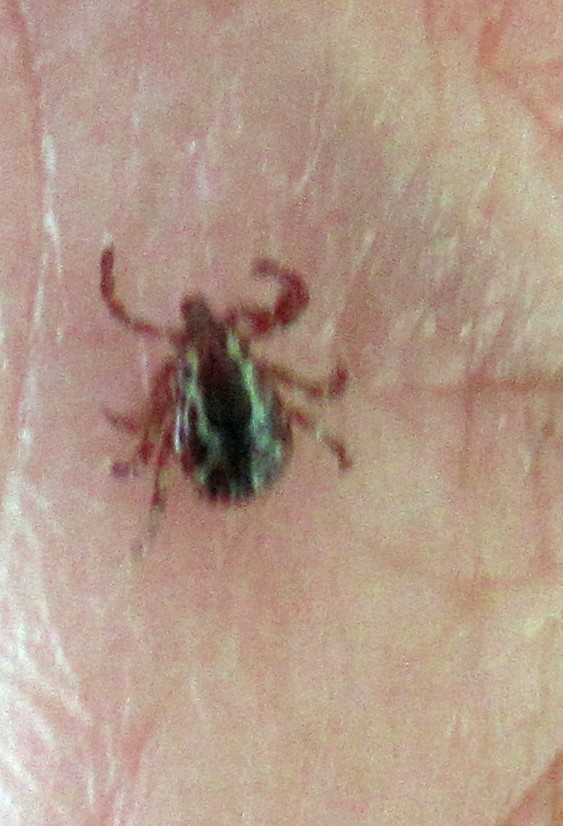garrapata: (77, 235, 381, 545)
